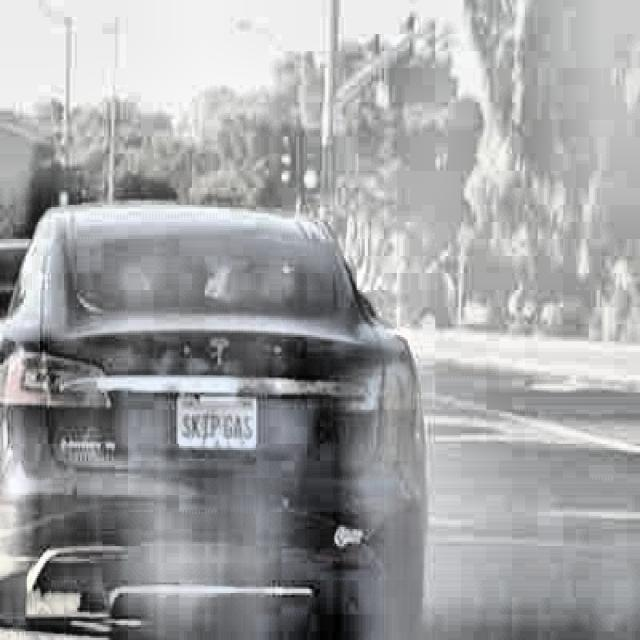license_plate: (175, 394, 259, 452)
